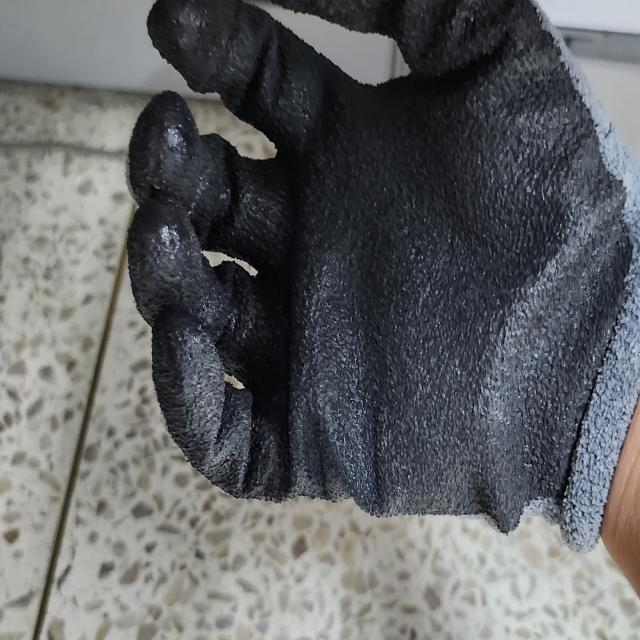Gloves: (133, 0, 640, 535)
